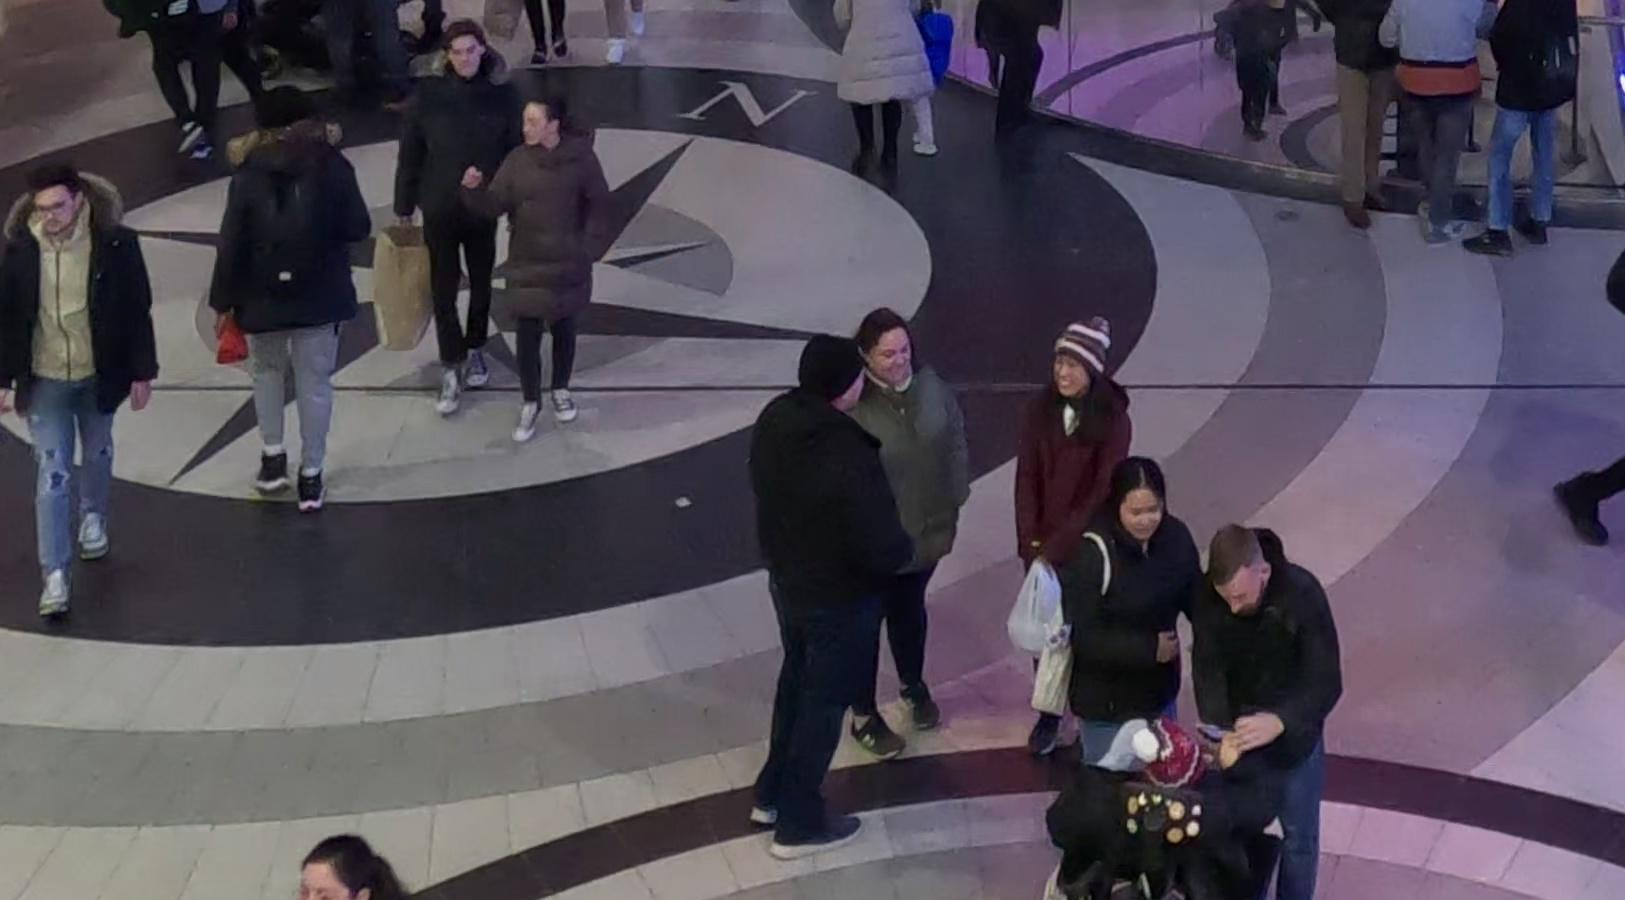person: (717, 325, 934, 865), (1137, 515, 1335, 897), (214, 86, 386, 526), (6, 156, 163, 629), (841, 300, 992, 749), (461, 90, 623, 459), (1059, 456, 1227, 805), (1009, 314, 1139, 762), (397, 16, 522, 413), (1470, 2, 1602, 262)
